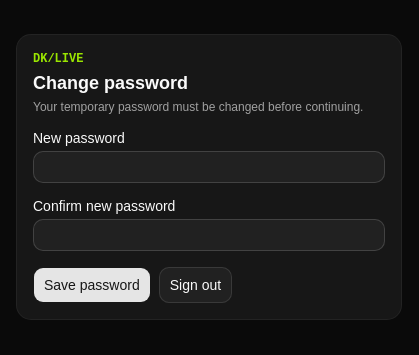
validates the new password and signs out from the forced change-password page
The width and height of the screenshot is (419, 355).
Expected: the heading "Change password" is shown, [33,73,188,93]
Expected: the text "Your temporary password must be changed before continuing." is shown, [33,99,385,115]
In the password field labelled "New password": (209, 167) [33,151,385,183], type "twelve-chars-ok"
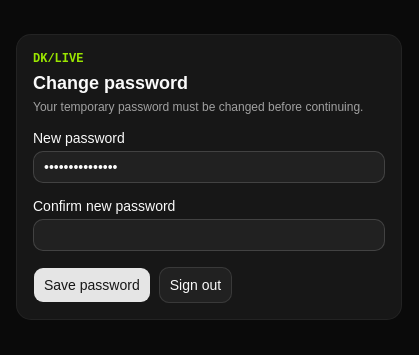
In the password field labelled "Confirm new password": (209, 235) [33,219,385,251], type "something-else-entirely"
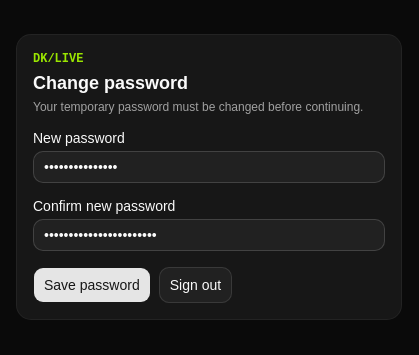
Click the button "Save password": (92, 285) [33,267,151,303]
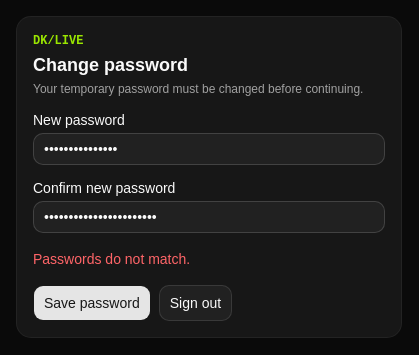
Expected: the text "Passwords do not match." is shown, [33,251,190,267]
Click the button "Sign out": (195, 303) [159,285,232,321]
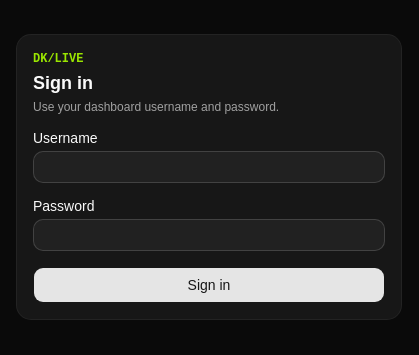
Expected: the heading "Sign in" is shown, [33,73,93,93]
